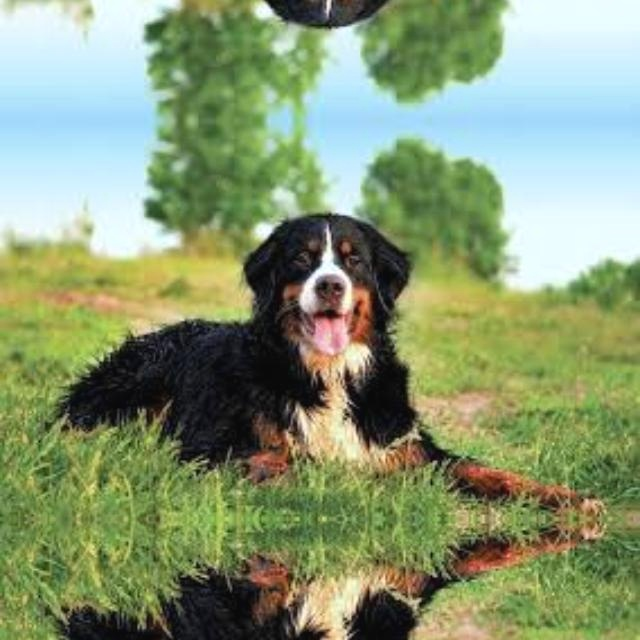dog: (49, 212, 582, 507), (48, 531, 581, 640), (48, 0, 581, 28)
